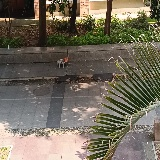fire: (63, 55, 69, 62)
